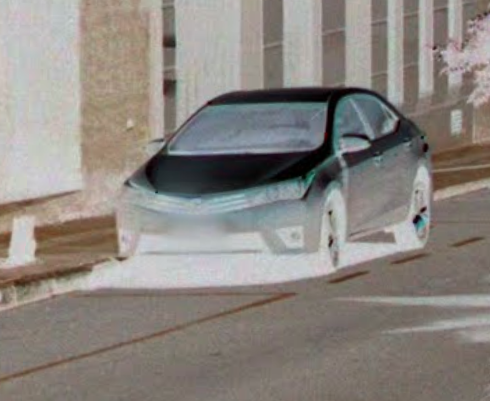car: (109, 85, 435, 285)
